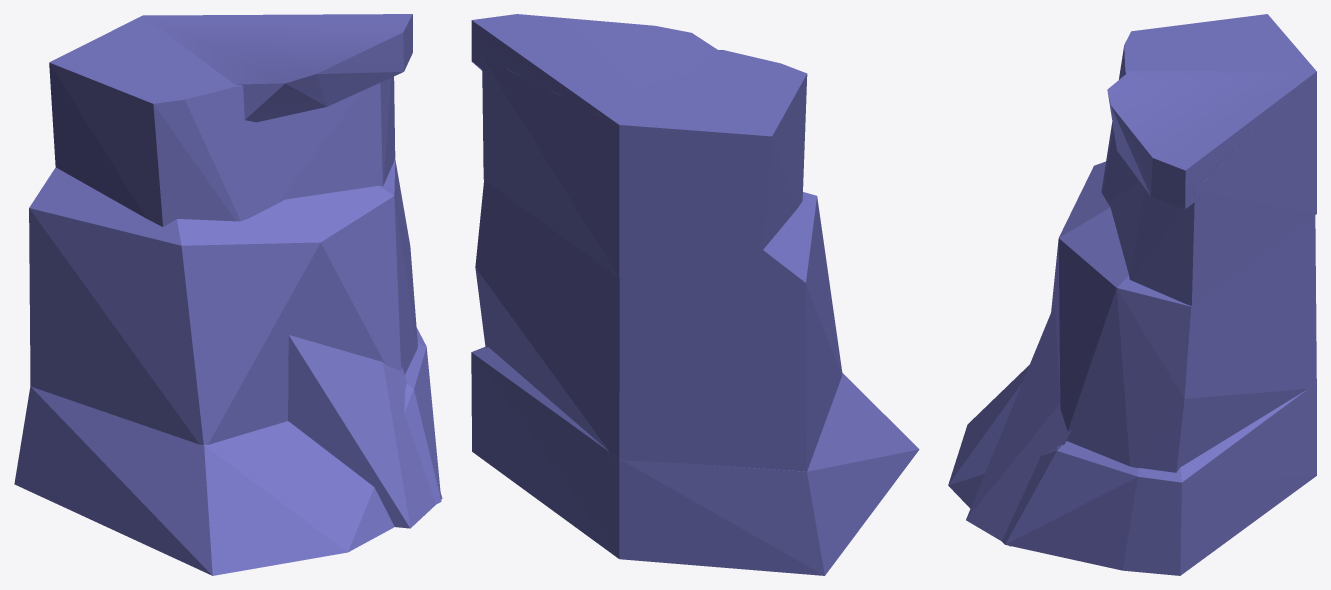
File: Cliff_Corner_01_Slope_Collider_01.FBX
3 renders of one model, left to right at view 1: azimuth 30°, elevation 25°; view 2: azimuth 150°, elevation 25°; view 3: azimuth 270°, elevation 25°, orthographic. The views are drawn at different scales.
Visible parts, largest first — view 1: COLLIDER3, COLLIDER4, COLLIDER2, COLLIDER1, COLLIDER5; view 2: COLLIDER3, COLLIDER2, COLLIDER4, COLLIDER1; view 3: COLLIDER3, COLLIDER4, COLLIDER2, COLLIDER1, COLLIDER5.
Part boxes in pixels (x1,y1,x2,y2): COLLIDER3: (29, 159, 417, 444); COLLIDER4: (14, 328, 441, 575); COLLIDER2: (49, 15, 395, 226); COLLIDER1: (143, 14, 412, 122); COLLIDER5: (288, 335, 442, 528); COLLIDER3: (475, 180, 842, 471); COLLIDER2: (482, 50, 807, 285); COLLIDER4: (471, 347, 919, 575); COLLIDER1: (471, 14, 720, 124); COLLIDER3: (1051, 161, 1316, 472); COLLIDER4: (948, 365, 1316, 575); COLLIDER2: (1101, 14, 1316, 305); COLLIDER1: (1107, 70, 1316, 208); COLLIDER5: (966, 304, 1071, 546).
Size of the model in its own units: 623 by 660 by 546.
